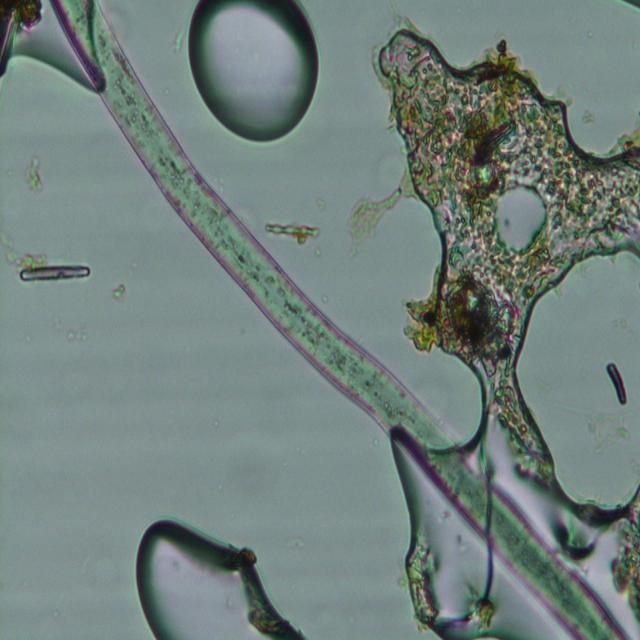Air bubble: (508, 235, 640, 518), (380, 481, 530, 634), (134, 518, 302, 639), (188, 2, 320, 147), (492, 183, 548, 256)
Background material: (342, 21, 640, 338), (459, 333, 559, 500), (346, 180, 416, 252), (6, 248, 92, 280), (263, 218, 320, 244), (602, 362, 632, 410), (22, 153, 45, 195), (112, 284, 126, 301)
Microfibre: (51, 1, 623, 638)
